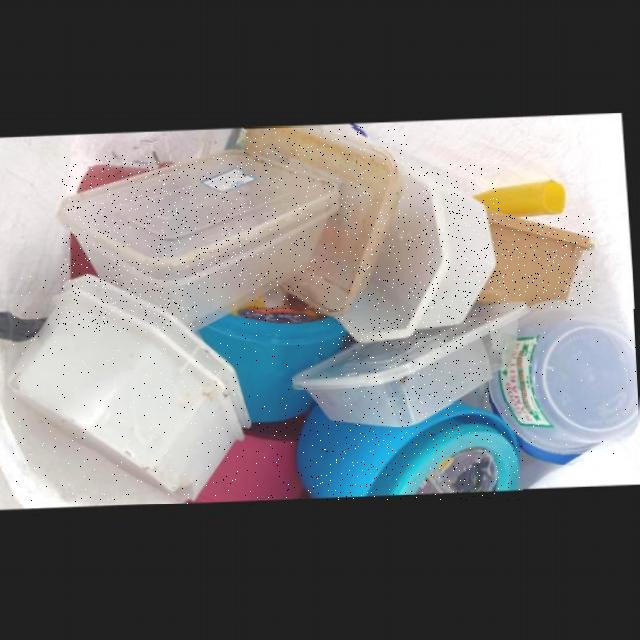plastic: (13, 276, 254, 503), (61, 155, 345, 331), (245, 127, 408, 318), (295, 305, 532, 429), (339, 163, 499, 346), (490, 309, 639, 464), (198, 288, 359, 424), (296, 403, 523, 499), (480, 215, 593, 309), (193, 417, 309, 503)
